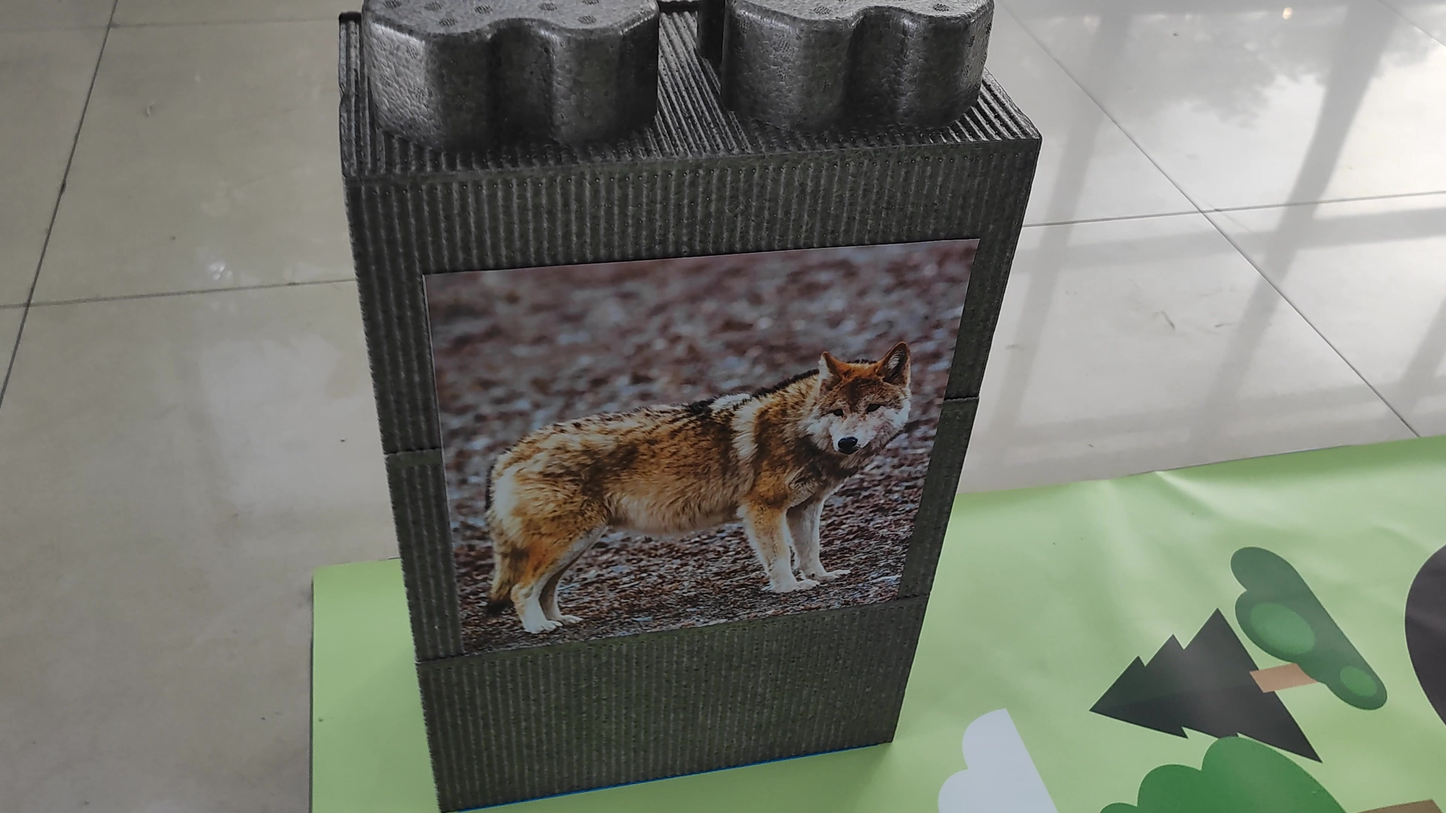wolf: (448, 279, 922, 638)
